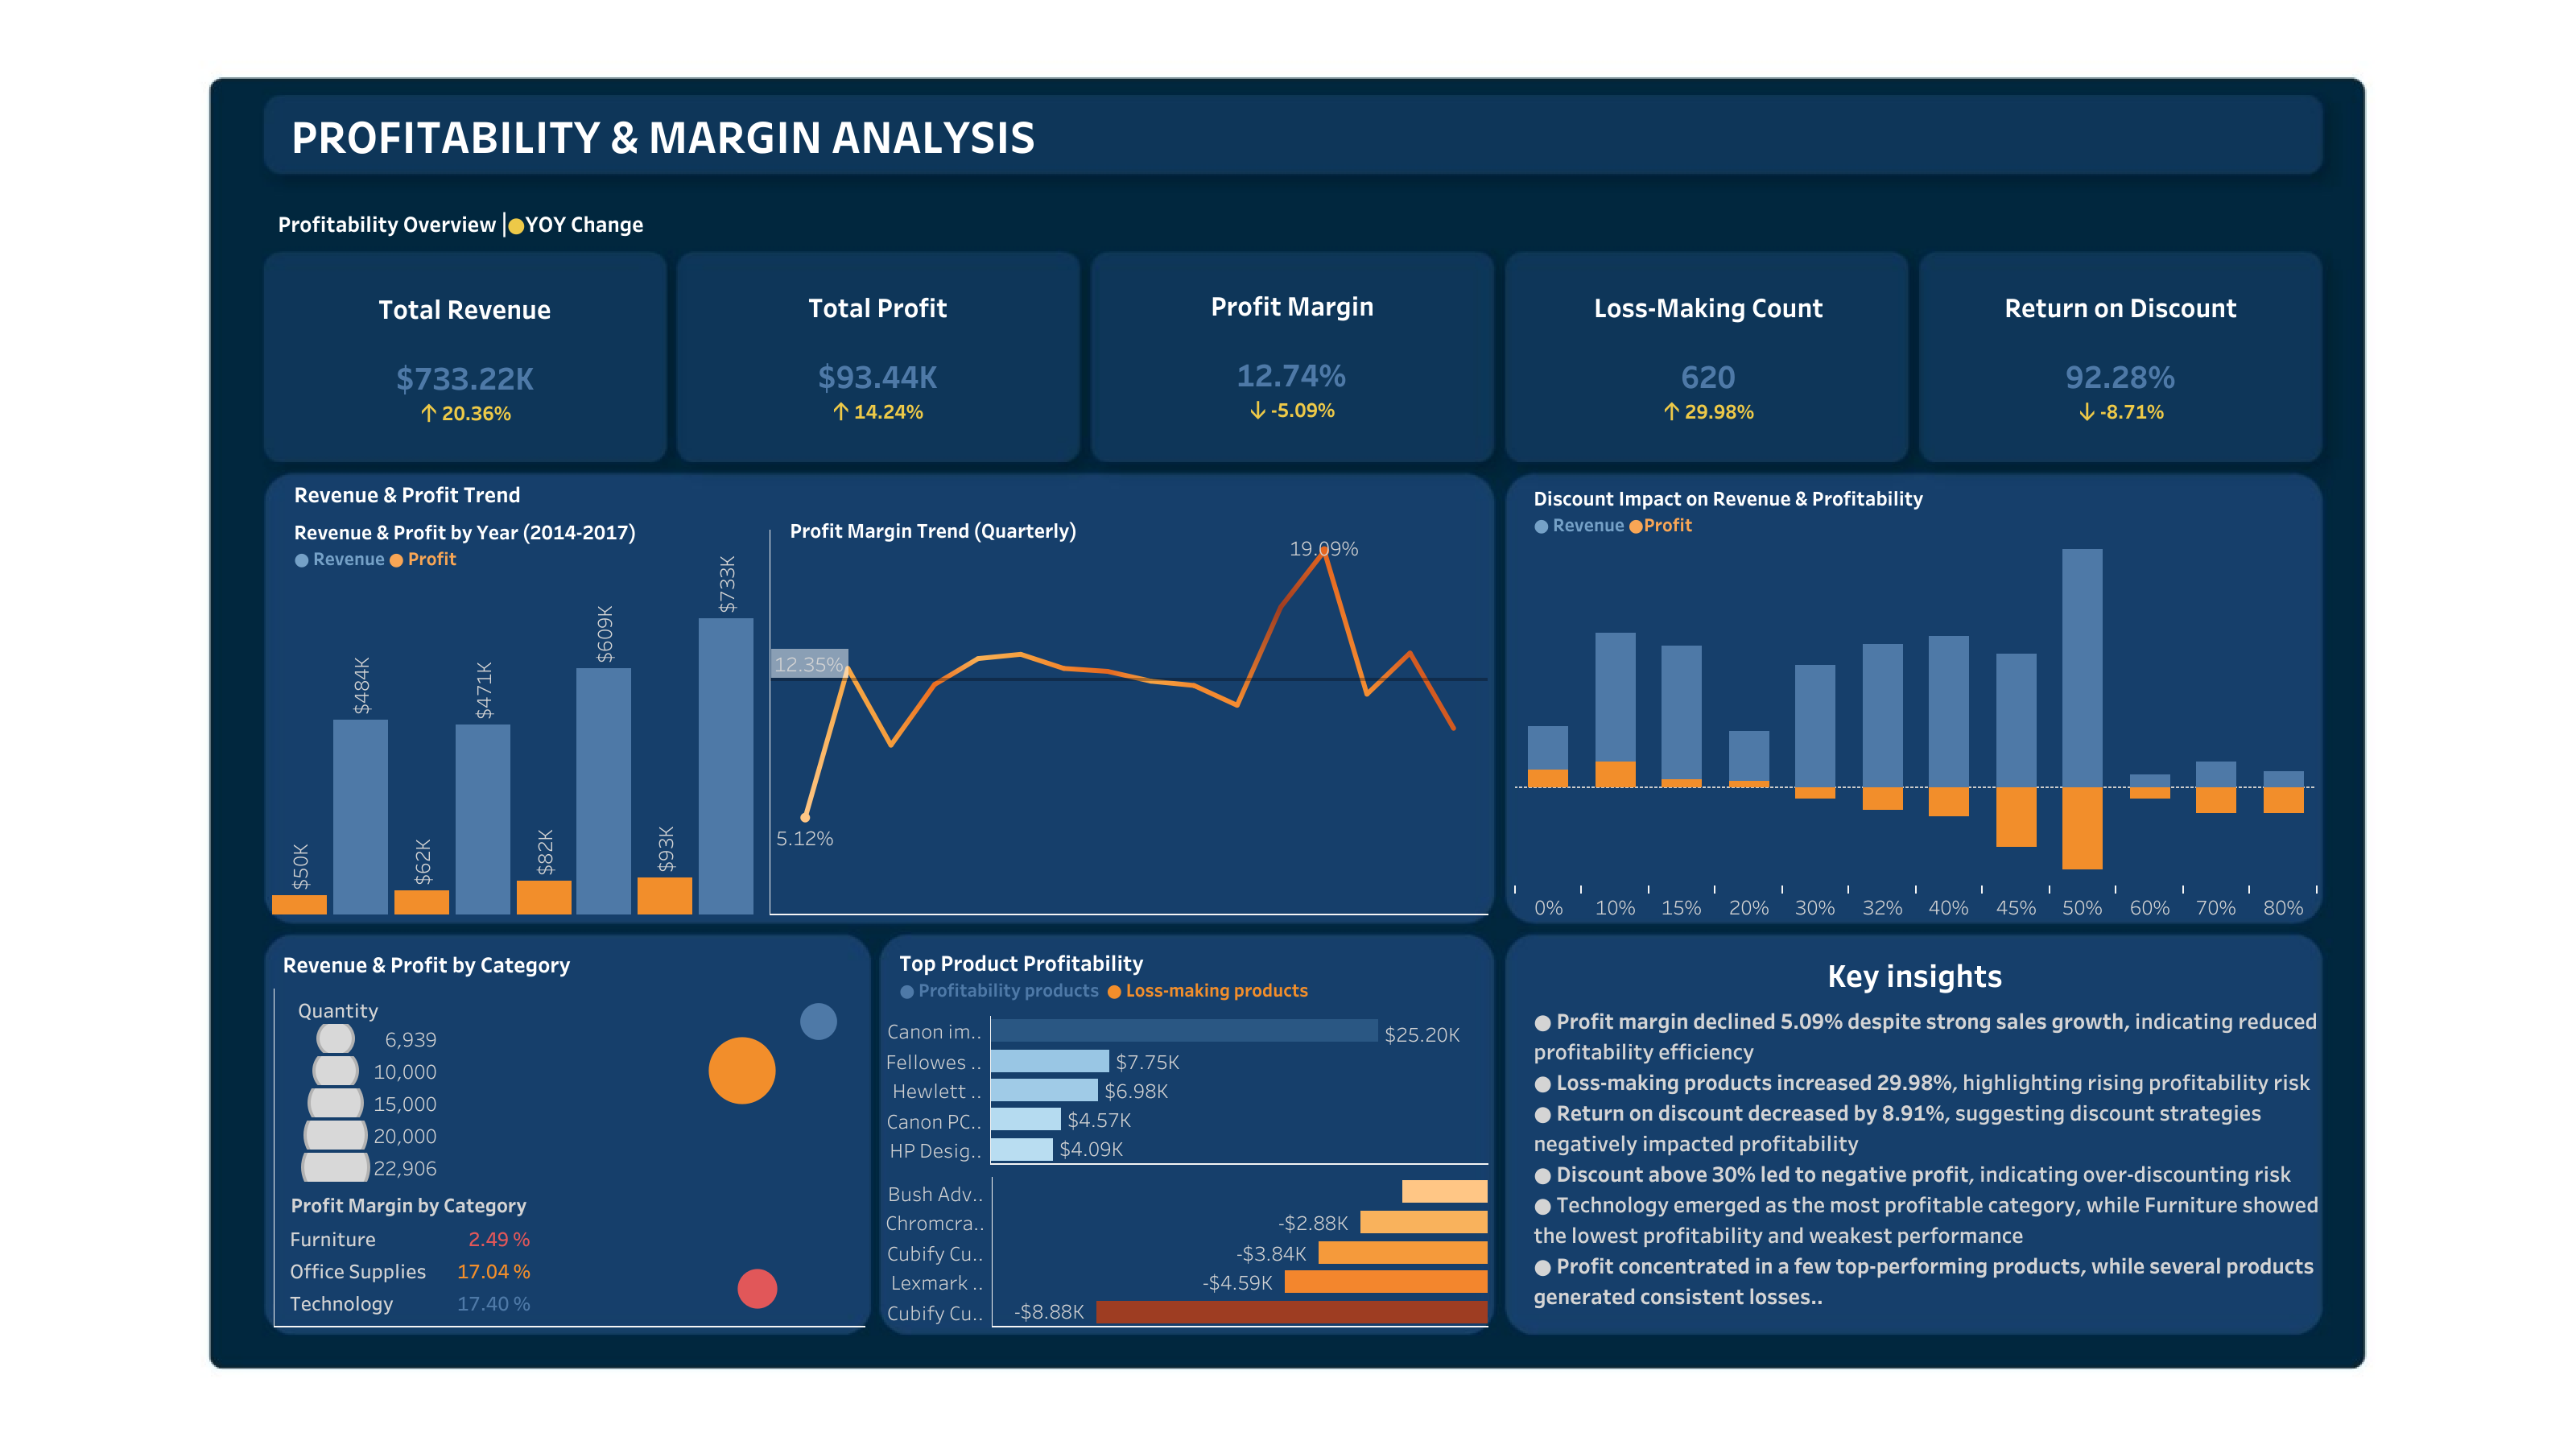

What the dashboard file says about the page in this screenshot:
{"tool":"tableau","page":{"name":"Profitability","canvas":[1600,900],"ordinal":3},"visuals":[{"type":"image","param":"Image/White and Green Modern Clean Financial Performance Dashboard Whiteboard (5","box":[8,8,1584,884]},{"type":"text","box":[178,62,542,44]},{"type":"text","box":[170,123,386,30]},{"type":"worksheet","title":"Profit Margin KPI","mark":"Automatic","box":[678,154,250,133]},{"type":"worksheet","title":"Profit KPI","mark":"Automatic","box":[421,156,250,132]},{"type":"worksheet","title":"Sales KPI","mark":"Automatic","box":[165,158,249,129]},{"type":"worksheet","title":"Loss-making KPI","mark":"Automatic","box":[937,158,249,128]},{"type":"worksheet","title":"Return on Discount","mark":"Automatic","box":[1194,158,248,128]},{"type":"text","box":[180,291,147,30]},{"type":"text","box":[950,298,248,36]},{"type":"text","box":[488,314,184,30]},{"type":"text","box":[180,317,292,41]},{"type":"worksheet","title":"Rev vs. Profit by year","mark":"Bar","cols":["Order Date"],"box":[163,325,311,247]},{"type":"worksheet","title":"Quarter Profit Margin trend","mark":"Line","rows":["Profit Margin CY (copy)_0001088186183755"],"cols":["Order Date"],"box":[474,325,454,247]},{"type":"worksheet","title":"Rev vs. Profit by Discount","mark":"Bar","rows":["Sales","Profit"],"cols":["Discount"],"box":[937,327,506,247]},{"type":"text","box":[173,583,185,30]},{"type":"text","box":[556,586,354,38]},{"type":"text","box":[937,590,505,30]},{"type":"worksheet","title":"Rev vs Profit by Category","mark":"Circle","rows":["Profit"],"cols":["Sales"],"box":[166,610,375,218]},{"type":"legend","title":"Rev vs Profit by Category","param":"[federated.0kjk1xa1tmdqrl19maqv71vp5dws].[sum:Quantity:qk]","box":[184,616,90,119]},{"type":"text","box":[943,618,493,208]},{"type":"worksheet","title":"Top Profit","mark":"Automatic","rows":["Product Name"],"cols":["Profit"],"box":[546,627,382,100.5]},{"type":"worksheet","title":"Top Loss","mark":"Automatic","rows":["Product Name"],"cols":["Profit"],"box":[546,727.5,382,100.5]},{"type":"text","box":[178,733,152,30]},{"type":"worksheet","title":"Profit Margin by Category","mark":"Automatic","rows":["Category"],"box":[174,759,161,61]}]}

Visuals, with their boxes in screenshot pixels (x1, y1, x2, y2), scaled from the page's 1600x900 canvas onto the 2576x1449 screenshot:
image: pyautogui.locateOnScreen(13, 13, 2563, 1436)
text: pyautogui.locateOnScreen(287, 100, 1159, 171)
text: pyautogui.locateOnScreen(274, 198, 895, 246)
"Profit Margin KPI" worksheet: pyautogui.locateOnScreen(1092, 248, 1494, 462)
"Profit KPI" worksheet: pyautogui.locateOnScreen(678, 251, 1080, 464)
"Sales KPI" worksheet: pyautogui.locateOnScreen(266, 254, 667, 462)
"Loss-making KPI" worksheet: pyautogui.locateOnScreen(1509, 254, 1909, 460)
"Return on Discount" worksheet: pyautogui.locateOnScreen(1922, 254, 2322, 460)
text: pyautogui.locateOnScreen(290, 469, 526, 517)
text: pyautogui.locateOnScreen(1529, 480, 1929, 538)
text: pyautogui.locateOnScreen(786, 506, 1082, 554)
text: pyautogui.locateOnScreen(290, 510, 760, 576)
"Rev vs. Profit by year" worksheet (Bar marks): pyautogui.locateOnScreen(262, 523, 763, 921)
"Quarter Profit Margin trend" worksheet (Line marks): pyautogui.locateOnScreen(763, 523, 1494, 921)
"Rev vs. Profit by Discount" worksheet (Bar marks): pyautogui.locateOnScreen(1509, 526, 2323, 924)
text: pyautogui.locateOnScreen(279, 939, 576, 987)
text: pyautogui.locateOnScreen(895, 943, 1465, 1005)
text: pyautogui.locateOnScreen(1509, 950, 2322, 998)
"Rev vs Profit by Category" worksheet (Circle marks): pyautogui.locateOnScreen(267, 982, 871, 1333)
"Rev vs Profit by Category" legend: pyautogui.locateOnScreen(296, 992, 441, 1183)
text: pyautogui.locateOnScreen(1518, 995, 2312, 1330)
"Top Profit" worksheet: pyautogui.locateOnScreen(879, 1009, 1494, 1171)
"Top Loss" worksheet: pyautogui.locateOnScreen(879, 1171, 1494, 1333)
text: pyautogui.locateOnScreen(287, 1180, 531, 1228)
"Profit Margin by Category" worksheet: pyautogui.locateOnScreen(280, 1222, 539, 1320)
